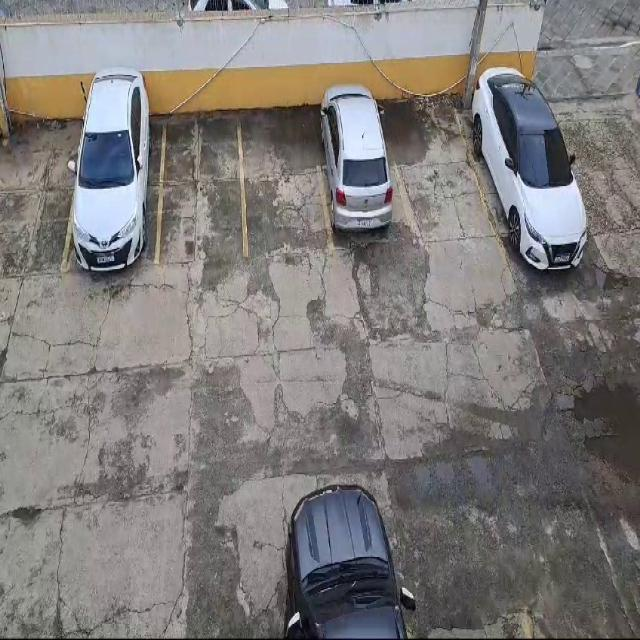empty: (386, 99, 502, 249), (237, 104, 332, 257), (157, 116, 247, 265)
notEmpty: (460, 86, 585, 252), (63, 112, 166, 266), (314, 96, 413, 248)
